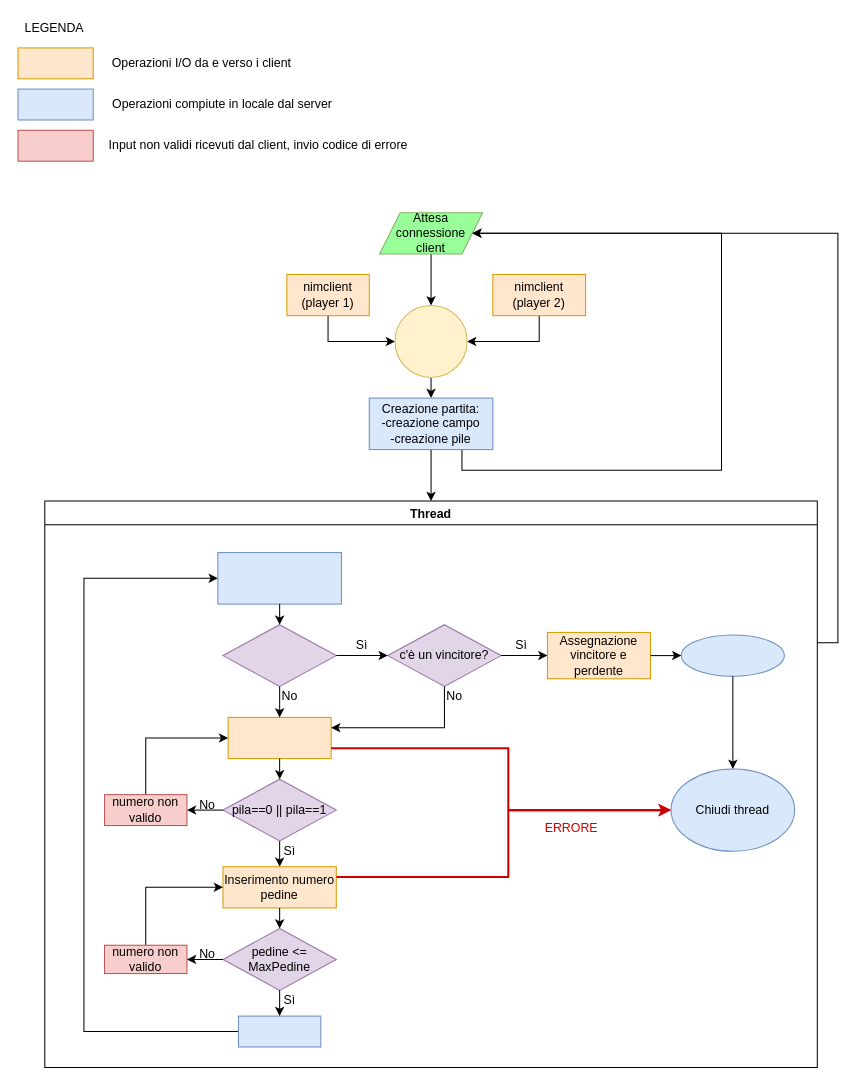
The diagram is 864 pixels wide and 1086 high, and some of its shapes have lost their labels. Each missing label, with the box of its shape:
cambio turno: (237, 1015, 321, 1047)
Connessione Stabilita: (394, 304, 467, 377)
Inizio turno (default: il primo turno lo inizia il player 1): (217, 552, 341, 604)
Inserimento numero pila: (227, 716, 331, 759)
Termine partita: (680, 634, 784, 676)
turno >= 2: (222, 624, 336, 686)
